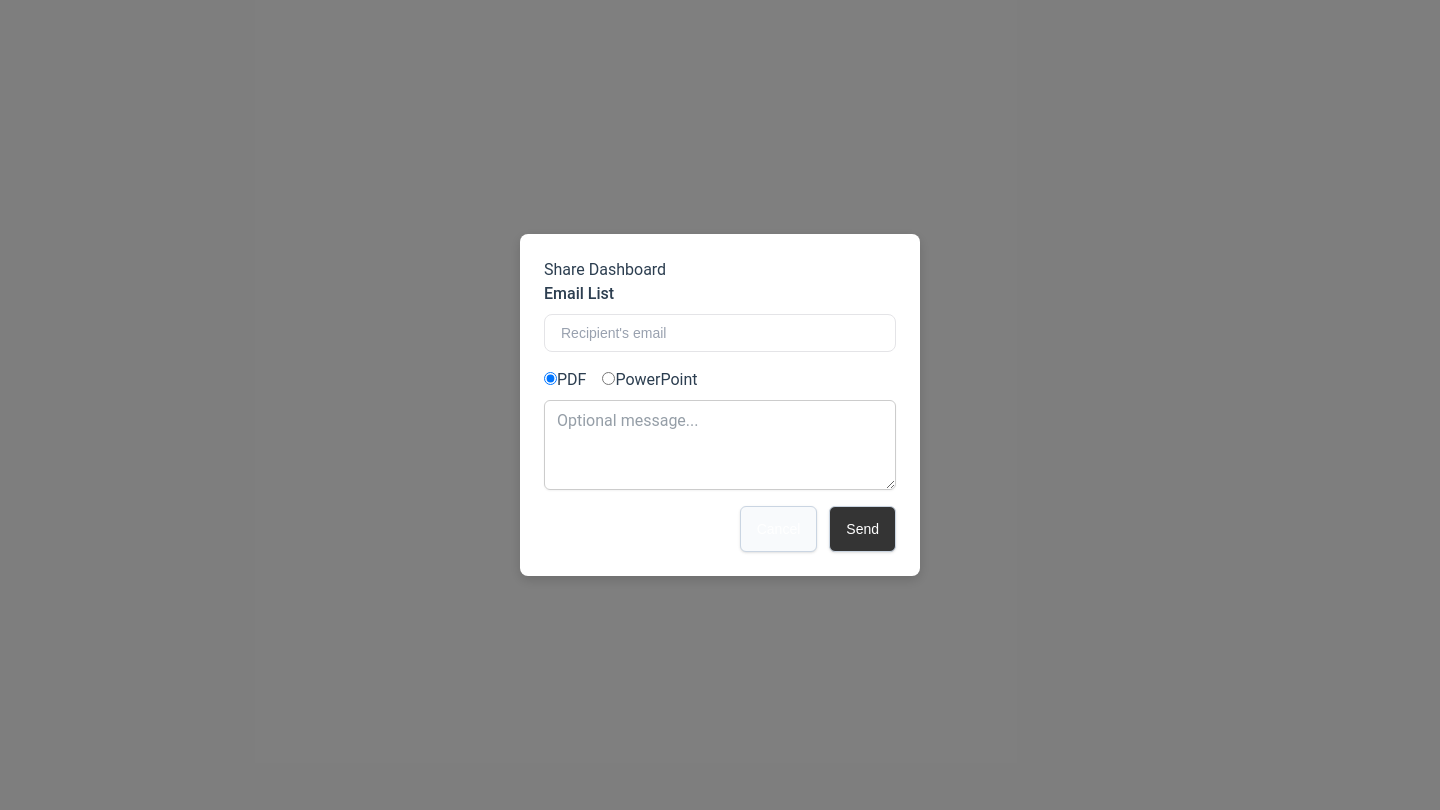
Scenario: ShareModal › updates format when radio button is clicked
Check: the radio button labelled "PDF" is checked, box [544,372,557,385]
# Click PowerPoint
Click the radio button labelled "PowerPoint". click: (609, 378)
box: [602,372,615,385]
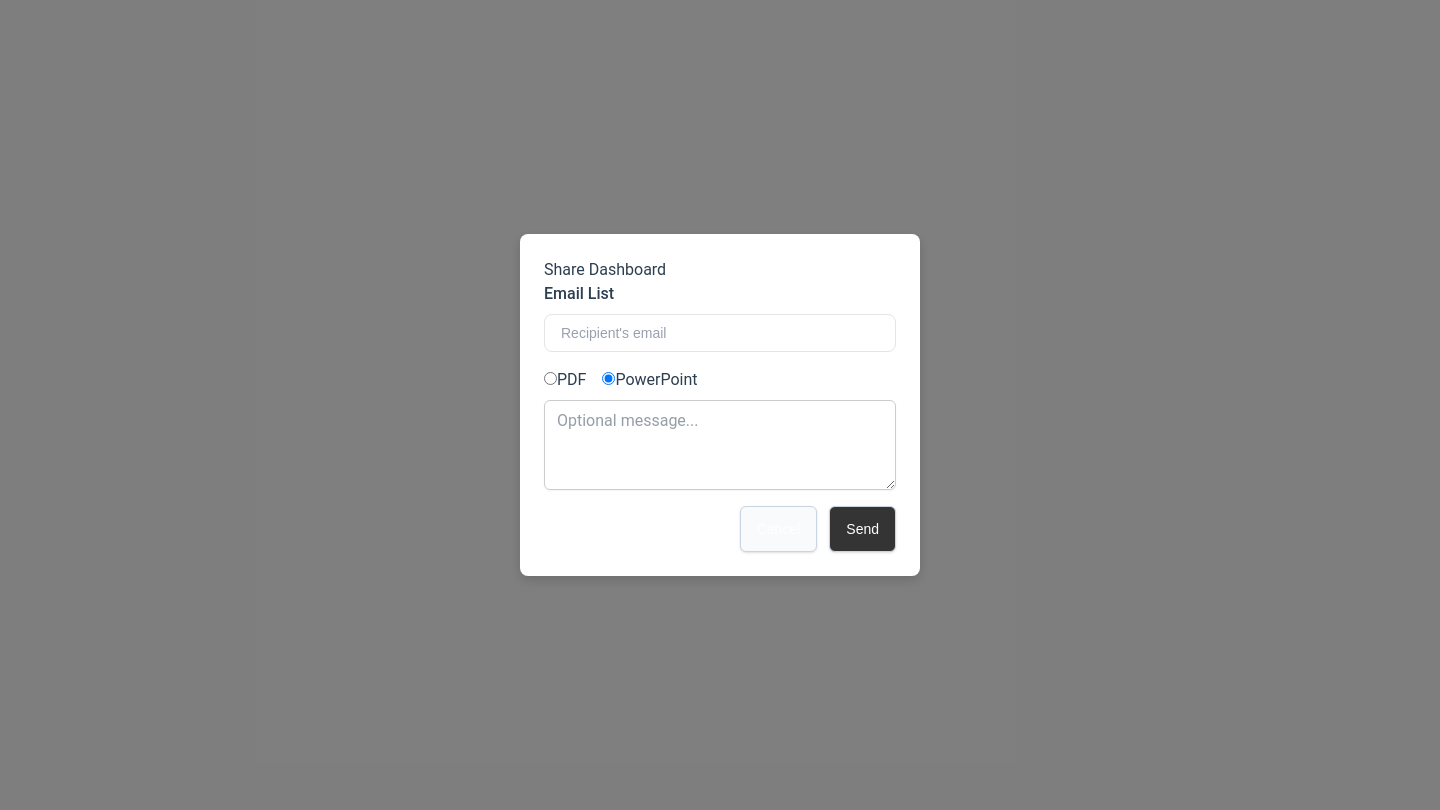
Check: the radio button labelled "PowerPoint" is checked, box [602,372,615,385]
Check: the radio button labelled "PDF" is not checked, box [544,372,557,385]
